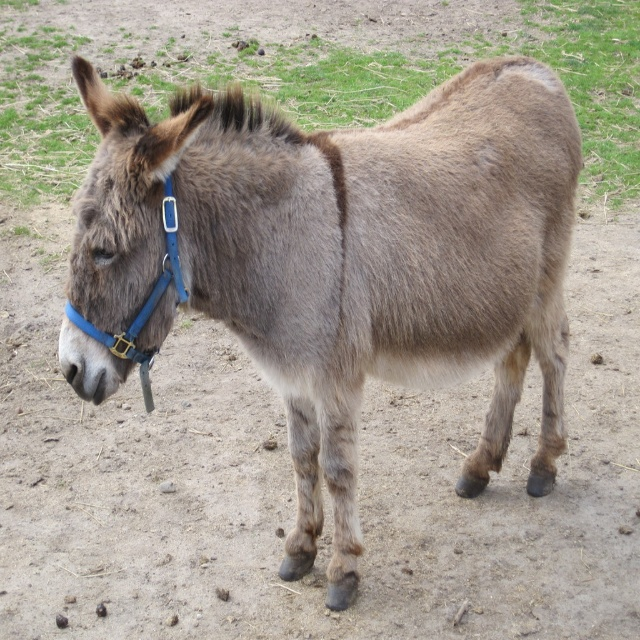Mule: (59, 54, 585, 611)
